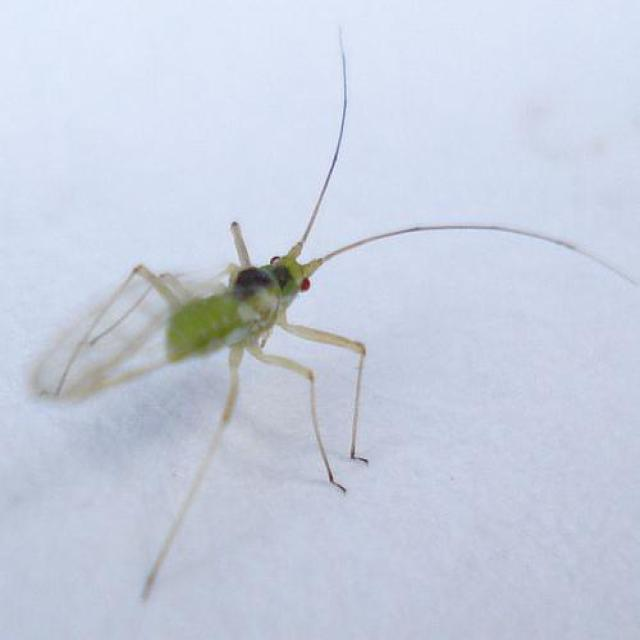Aphids: (53, 77, 607, 577)
